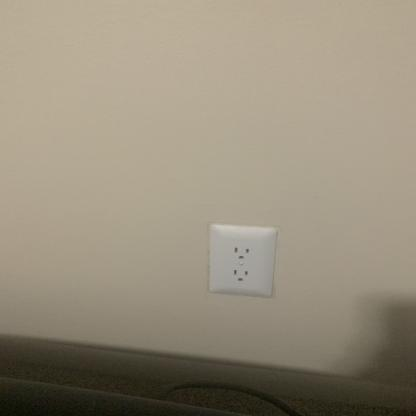OUTLET: (207, 223, 276, 297)
